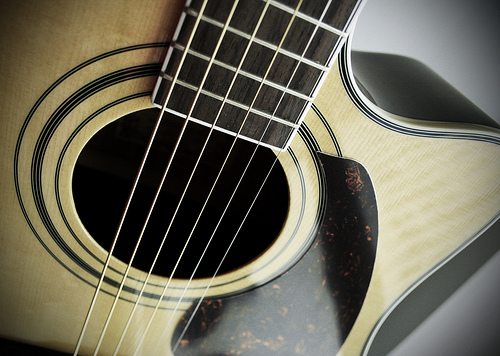guitar: (1, 1, 500, 356)
